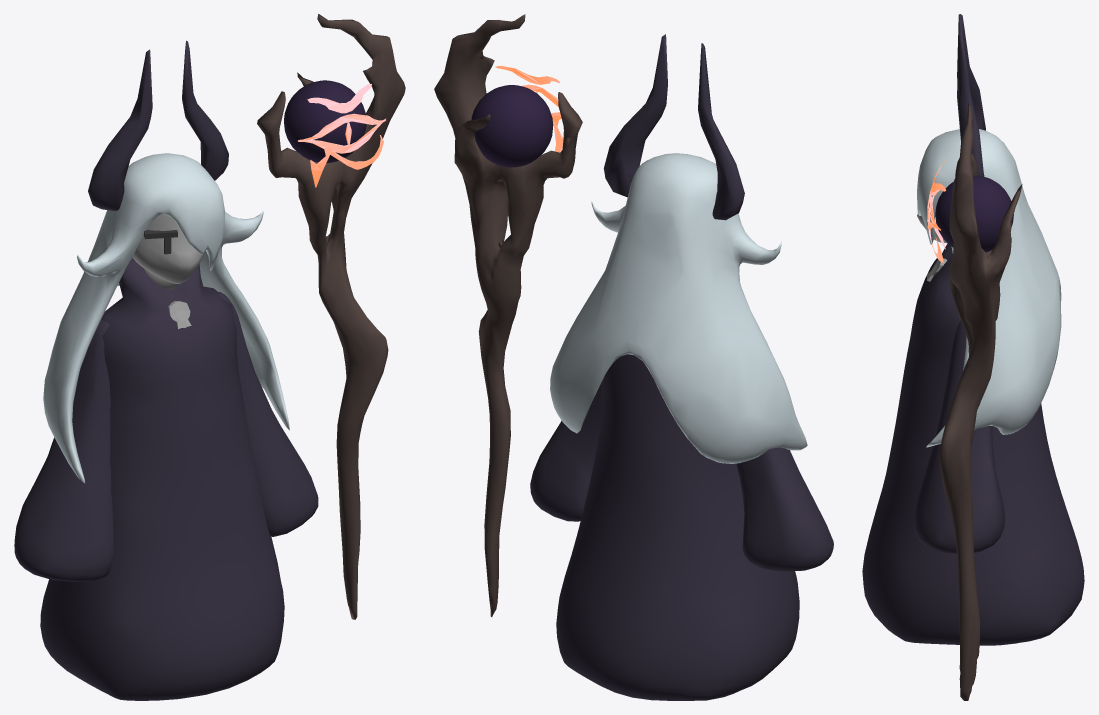
Rendered from necromancer.fbx.
3 renders of one model, left to right at view 1: azimuth 30°, elevation 25°; view 2: azimuth 150°, elevation 25°; view 3: azimuth 270°, elevation 25°, orthographic. The views are drawn at different scales.
Parts seen in each view (by area): view 1: Torso, Arms, Hair, Staff Body, Horns, Staff Orb, Head, Staff Eye; view 2: Torso, Hair, Staff Body, Arms, Horns, Staff Orb, Staff Eye; view 3: Torso, Hair, Staff Body, Arms, Staff Orb, Horns, Staff Eye.
Boxes of the visible parts, <box> form: Torso: <box>40,258,284,700</box>; Arms: <box>14,292,318,581</box>; Hair: <box>43,153,289,483</box>; Staff Body: <box>257,14,405,619</box>; Horns: <box>88,40,228,210</box>; Staff Orb: <box>284,80,366,163</box>; Head: <box>133,214,205,283</box>; Staff Eye: <box>298,84,386,187</box>; Torso: <box>556,354,799,700</box>; Hair: <box>550,153,807,463</box>; Staff Body: <box>434,14,582,616</box>; Arms: <box>530,381,833,571</box>; Horns: <box>603,34,744,220</box>; Staff Orb: <box>471,85,553,167</box>; Staff Eye: <box>495,66,563,152</box>; Torso: <box>862,243,1084,645</box>; Hair: <box>917,129,1061,447</box>; Staff Body: <box>939,103,1022,700</box>; Arms: <box>914,320,1004,553</box>; Staff Orb: <box>935,175,1013,252</box>; Horns: <box>957,14,985,176</box>; Staff Eye: <box>927,160,946,262</box>.
Size of the model in its own units: 534 by 820 by 279.
